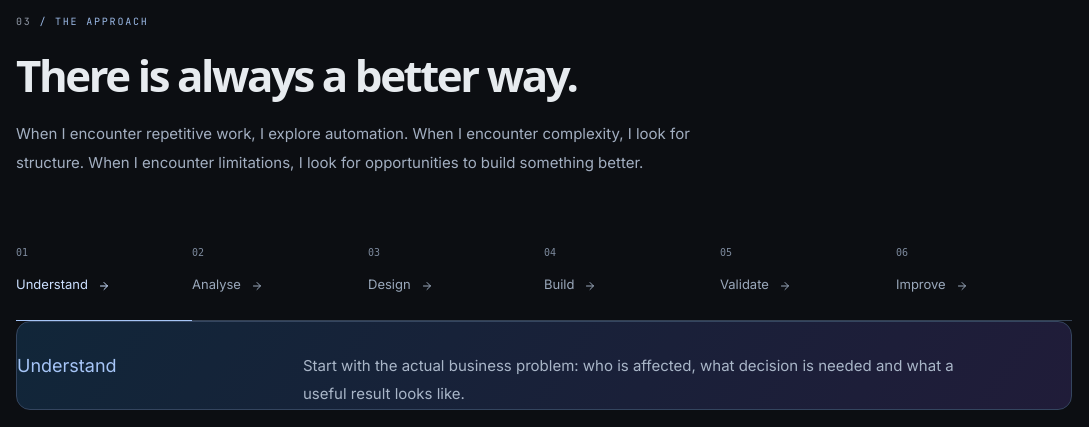
portfolio interactions and content integrity › changes the visible problem-solving explanation
The width and height of the screenshot is (1089, 427).
Click the button "05 Validate".
click(808, 273)  # box [720,226,896,320]
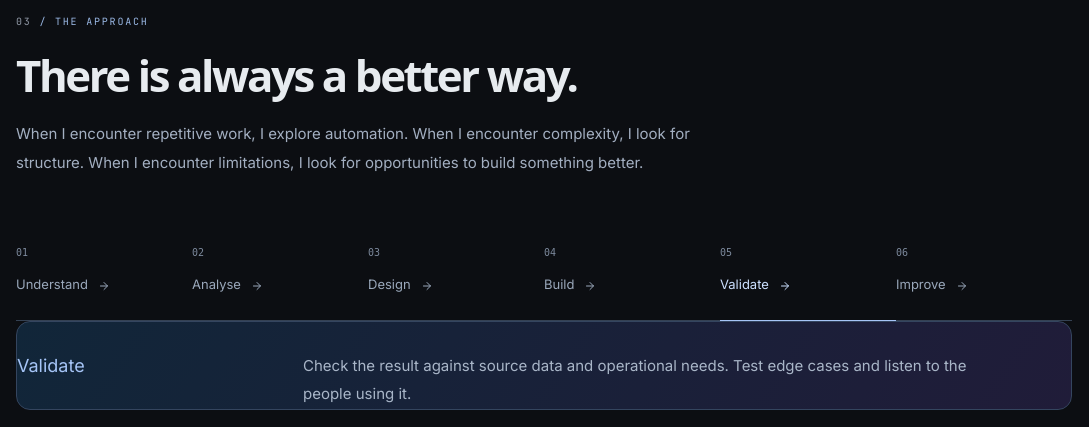
Check: the text "Test edge cases" is shown, box [303,356,966,404]
